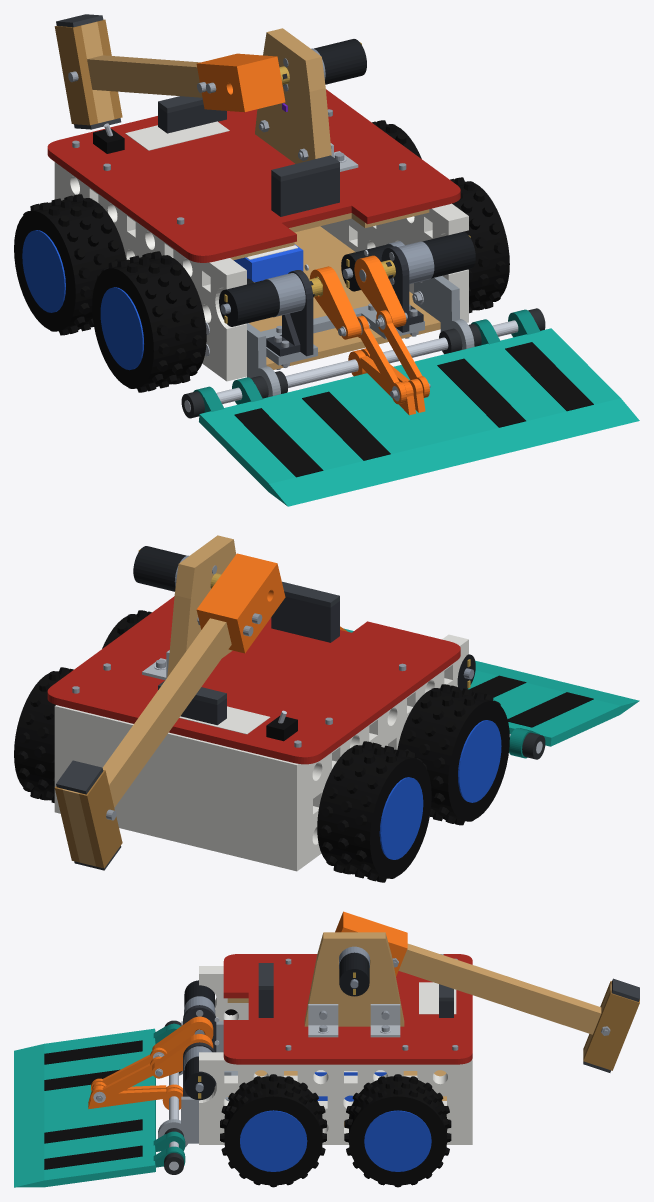
The model's file is Metal_Monster_robot.glb.
3 views of the same model, one above another, from view 1: azimuth 30°, elevation 25°; view 2: azimuth 150°, elevation 25°; view 3: azimuth 270°, elevation 25° (orthographic). The views are drawn at different scales.
Parts seen in each view (by area): view 1: Shovel blade (PETG / PA-CF print), Kit lid (red), Wheel Ø86 × 39, Kit side wall, Grip strip, Hammer motor upright 12 mm (print), Hammer stick 20×12 plywood (2 × 6 mm), Kit base plate (plywood), Hammer hub (print, hex socket), Shovel motor – 370 motor, Crank arm 37.5 mm (10 mm print, hex socket), Cheek plate (print) (+18 smaller); view 2: Kit lid (red), Wheel Ø86 × 39, Kit rear panel 149×75×15, Kit side wall, Hammer stick 20×12 plywood (2 × 6 mm), Shovel blade (PETG / PA-CF print), Hammer hub (print, hex socket), Hammer motor upright 12 mm (print), Hammer head – 6 mm plywood side plates, Front stop post (print), Grip strip, Hammer motor – 370 motor (+4 smaller); view 3: Wheel Ø86 × 39, Kit lid (red), Shovel blade (PETG / PA-CF print), Kit side wall, Hammer stick 20×12 plywood (2 × 6 mm), Hammer motor upright 12 mm (print), Grip strip, Hammer head – 6 mm plywood side plates, Alu angle 20×20×2, Crank arm 37.5 mm (10 mm print, hex socket), Connecting rod 5.5 cm (4 mm print, 623ZZ bearings), Hammer hub (print, hex socket) (+13 smaller).
Part boxes in pixels (x1=…): Shovel blade (PETG / PA-CF print): x1=199, y1=328, x2=639, y2=506; Kit lid (red): x1=47, y1=89, x2=460, y2=262; Wheel Ø86 × 39: x1=14, y1=120, x2=509, y2=392; Kit side wall: x1=54, y1=162, x2=468, y2=381; Grip strip: x1=234, y1=342, x2=593, y2=477; Hammer motor upright 12 mm (print): x1=255, y1=28, x2=331, y2=163; Hammer stick 20×12 plywood (2 × 6 mm): x1=81, y1=21, x2=202, y2=123; Kit base plate (plywood): x1=249, y1=226, x2=440, y2=369; Hammer hub (print, hex socket): x1=196, y1=53, x2=285, y2=112; Shovel motor – 370 motor: x1=219, y1=232, x2=475, y2=326; Crank arm 37.5 mm (10 mm print, hex socket): x1=309, y1=255, x2=406, y2=339; Cheek plate (print): x1=246, y1=276, x2=474, y2=397; Kit lid (red): x1=47, y1=596, x2=460, y2=764; Wheel Ø86 × 39: x1=14, y1=610, x2=509, y2=882; Kit rear panel 149×75×15: x1=75, y1=710, x2=277, y2=866; Kit side wall: x1=54, y1=634, x2=468, y2=871; Hammer stick 20×12 plywood (2 × 6 mm): x1=63, y1=618, x2=231, y2=866; Shovel blade (PETG / PA-CF print): x1=344, y1=628, x2=639, y2=746; Hammer hub (print, hex socket): x1=196, y1=553, x2=285, y2=653; Hammer motor upright 12 mm (print): x1=167, y1=535, x2=235, y2=676; Hammer head – 6 mm plywood side plates: x1=54, y1=770, x2=122, y2=868; Front stop post (print): x1=271, y1=596, x2=339, y2=642; Grip strip: x1=469, y1=675, x2=593, y2=727; Hammer motor – 370 motor: x1=133, y1=546, x2=186, y2=591; Wheel Ø86 × 39: x1=220, y1=1009, x2=451, y2=1187; Kit lid (red): x1=223, y1=954, x2=472, y2=1064; Shovel blade (PETG / PA-CF print): x1=14, y1=1028, x2=155, y2=1187; Kit side wall: x1=199, y1=966, x2=472, y2=1144; Hammer stick 20×12 plywood (2 × 6 mm): x1=398, y1=943, x2=639, y2=1057; Hammer motor upright 12 mm (print): x1=304, y1=932, x2=404, y2=1026; Grip strip: x1=44, y1=1040, x2=142, y2=1169; Hammer head – 6 mm plywood side plates: x1=583, y1=981, x2=639, y2=1070; Alu angle 20×20×2: x1=308, y1=1004, x2=400, y2=1037; Crank arm 37.5 mm (10 mm print, hex socket): x1=152, y1=1016, x2=213, y2=1078; Connecting rod 5.5 cm (4 mm print, 623ZZ bearings): x1=91, y1=1047, x2=167, y2=1105; Hammer hub (print, hex socket): x1=335, y1=911, x2=407, y2=976.
Bounding box in the file's own units: 0.265 × 0.179 × 0.5031.
